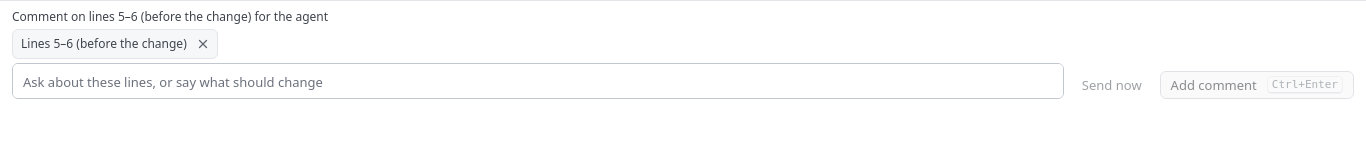
Test: AgentComment › adds a draft for the quote lines, and clears the box
Type " Why?  " into the text box labelled "Comment on lines 5–6 (before the change) for the agent" at point(538, 81), box [12,63,1064,99]
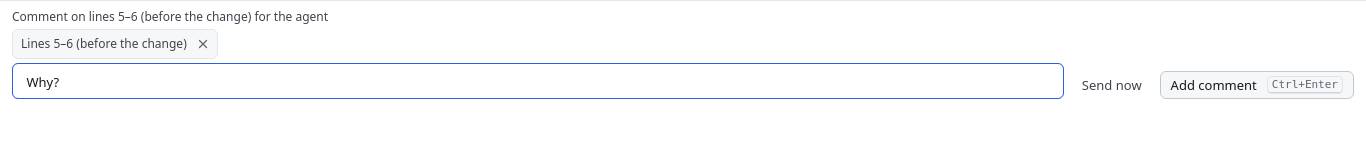
Click the button "Add comment Ctrl+Enter" at point(1257, 85), box [1160,71,1354,99]
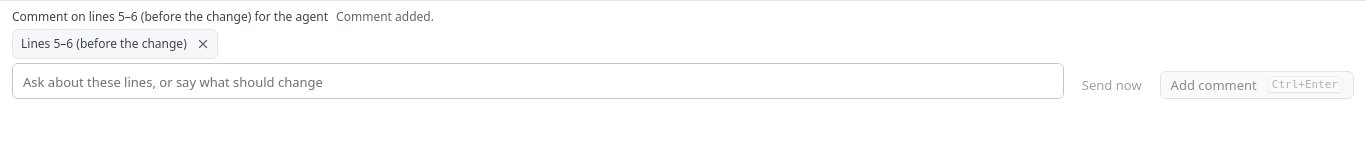
Check: the text "Comment added." is shown, box [336,9,434,25]
